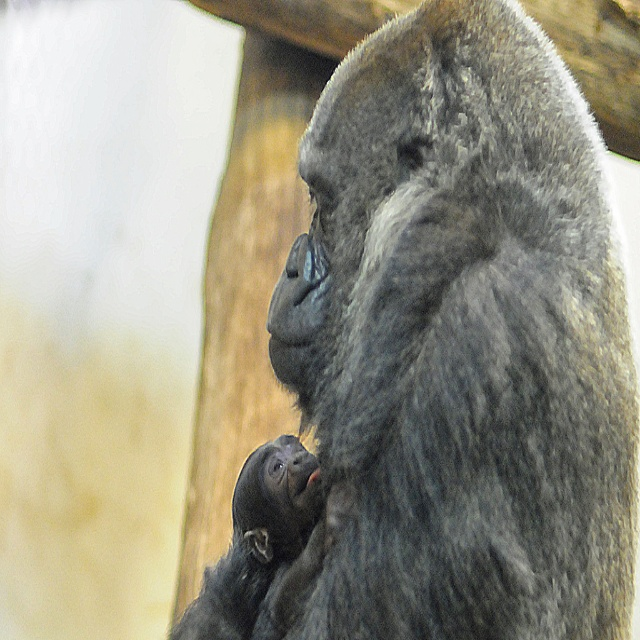Monkey: (169, 0, 640, 639), (173, 415, 343, 640)
